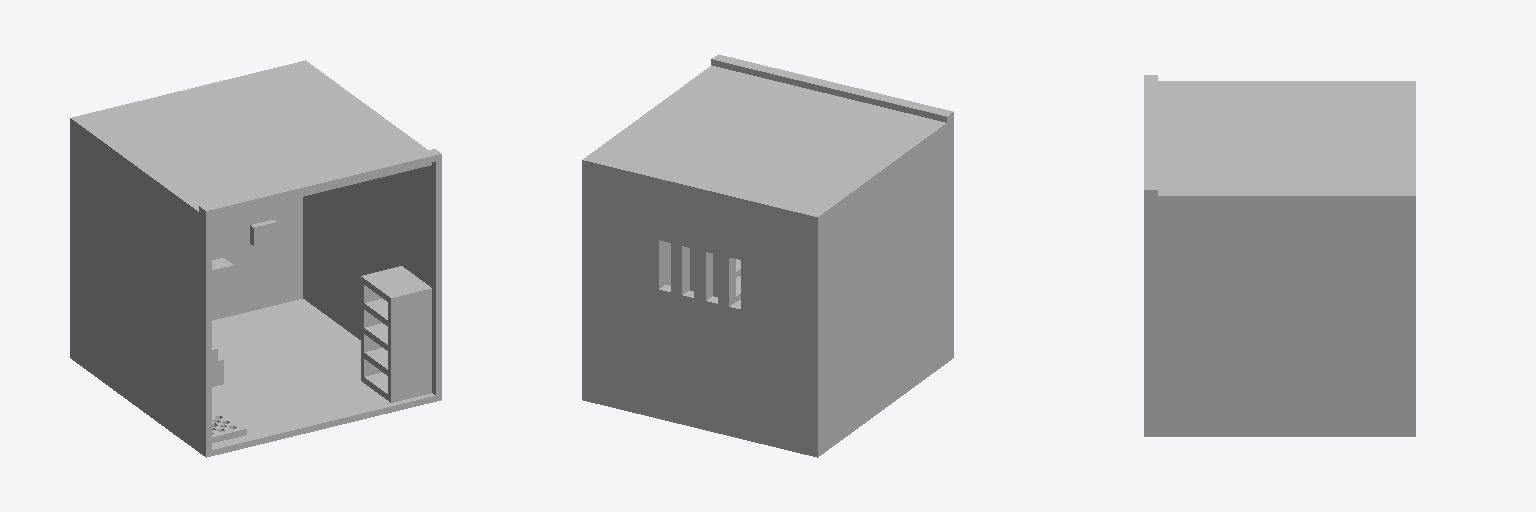
The model's file is 40x40 cell.obj.
The picture shows the model from 3 angles: view 1: azimuth 30°, elevation 25°; view 2: azimuth 150°, elevation 25°; view 3: azimuth 270°, elevation 25°; orthographic projection.
Visible parts, largest first — view 1: object 1; view 2: object 1; view 3: object 1.
Part boxes in pixels (bbox=[...]): object 1: bbox=[70, 60, 441, 457]; object 1: bbox=[582, 54, 953, 457]; object 1: bbox=[1144, 75, 1415, 436].
Size of the model in its own units: 4 by 4 by 4.